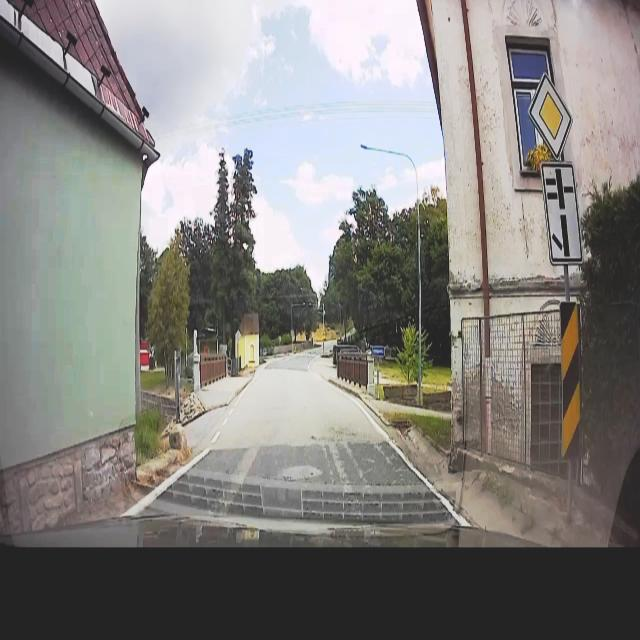Priority road: (520, 64, 580, 165)
